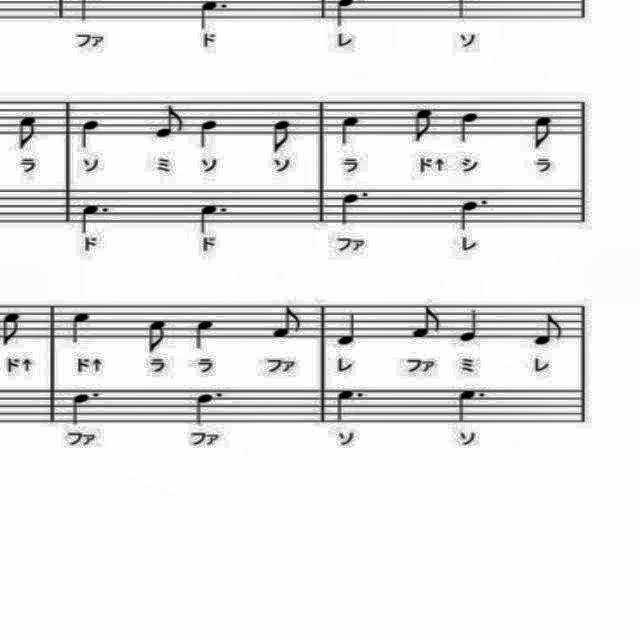Eighth-note: (151, 101, 189, 142), (411, 303, 447, 345), (270, 304, 306, 346), (529, 312, 567, 348), (142, 316, 174, 356), (15, 112, 45, 154), (0, 308, 26, 350), (530, 114, 558, 152), (270, 119, 298, 157), (413, 106, 439, 146)
Quarter-dot: (451, 382, 489, 428), (455, 190, 493, 232), (66, 385, 102, 427), (334, 386, 370, 428), (190, 386, 224, 428), (340, 188, 374, 228), (194, 198, 230, 234), (78, 202, 114, 236)
Quarter-note: (330, 310, 362, 350), (190, 316, 222, 352), (69, 308, 95, 352), (75, 115, 105, 153), (456, 307, 484, 345), (458, 108, 486, 144), (196, 116, 222, 152), (338, 112, 364, 146)
